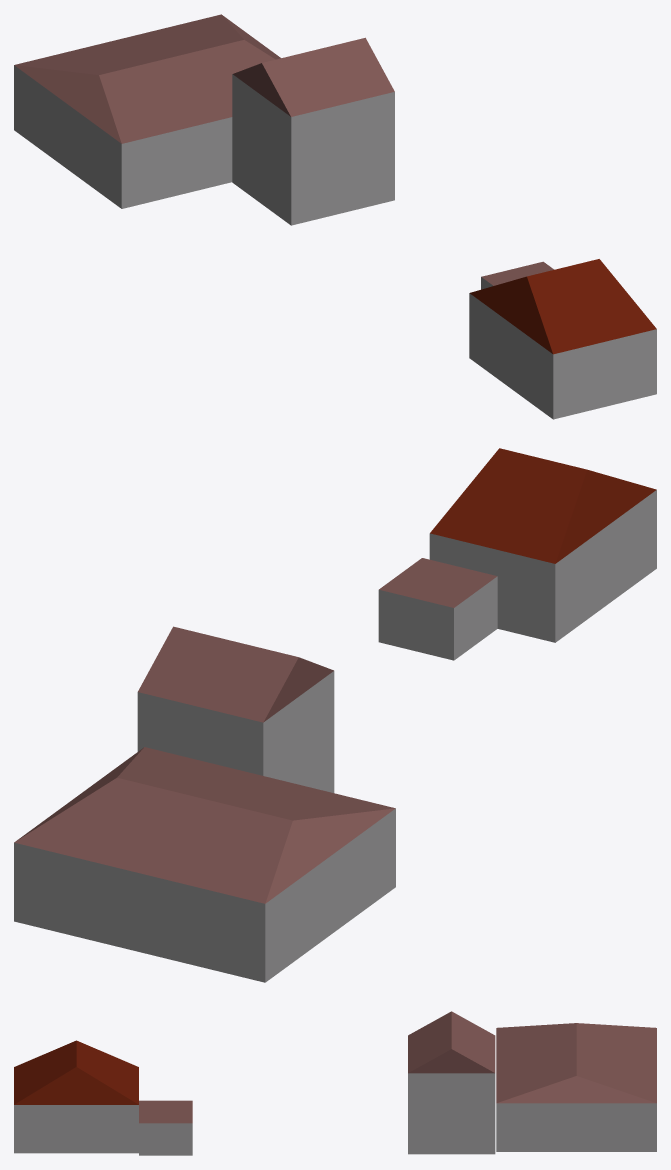
The model's file is Main Map__Hell__Plaza_Area.fbx.
3 views of the same model, one above another, from view 1: azimuth 30°, elevation 25°; view 2: azimuth 150°, elevation 25°; view 3: azimuth 270°, elevation 25° (orthographic). The views are drawn at different scales.
Parts seen in each view (by area): view 1: House.001__BOX_COLLIDER.002, House.004__BOX_COLLIDER.002, House__BOX_COLLIDER.004, House__BOX_COLLIDER.005; view 2: House.001__BOX_COLLIDER.002, House__BOX_COLLIDER.004, House.004__BOX_COLLIDER.002, House__BOX_COLLIDER.005; view 3: House.001__BOX_COLLIDER.002, House__BOX_COLLIDER.004, House.004__BOX_COLLIDER.002, House__BOX_COLLIDER.005.
Boxes of the visible parts, <box> form: House.001__BOX_COLLIDER.002: <box>14,14,280,208</box>; House.004__BOX_COLLIDER.002: <box>232,37,394,225</box>; House__BOX_COLLIDER.004: <box>469,259,656,419</box>; House__BOX_COLLIDER.005: <box>481,261,554,289</box>; House.001__BOX_COLLIDER.002: <box>14,747,395,982</box>; House__BOX_COLLIDER.004: <box>429,448,656,642</box>; House.004__BOX_COLLIDER.002: <box>137,626,334,792</box>; House__BOX_COLLIDER.005: <box>378,558,497,660</box>; House.001__BOX_COLLIDER.002: <box>496,1023,656,1151</box>; House__BOX_COLLIDER.004: <box>14,1040,138,1153</box>; House.004__BOX_COLLIDER.002: <box>408,1011,495,1154</box>; House__BOX_COLLIDER.005: <box>139,1100,192,1155</box>.
Bounding box in the file's own units: 1050 × 650 × 3600.
